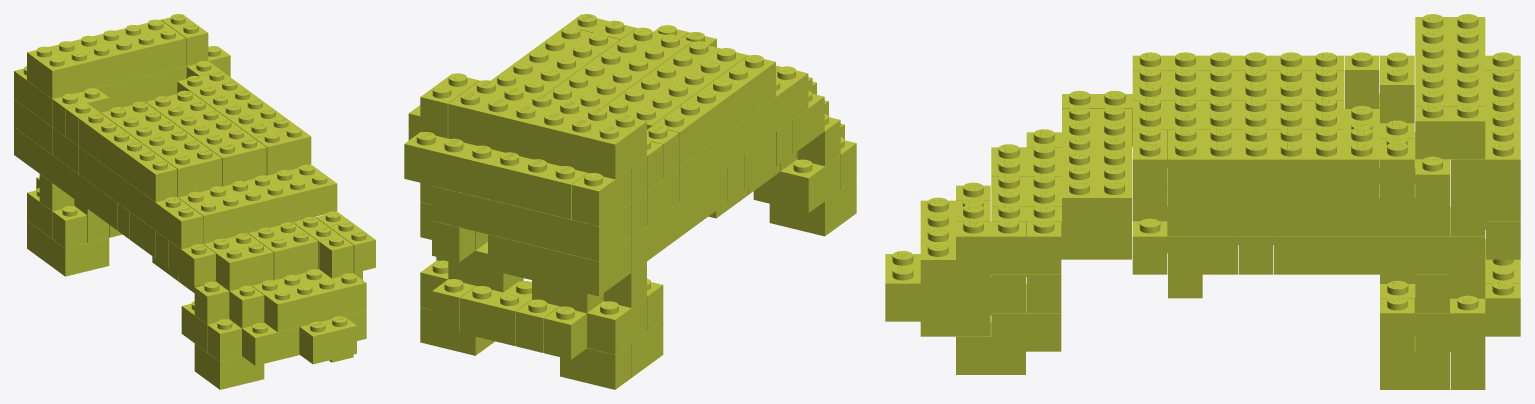
File: brickgpt_fbcf3009_4_a_racing_car_with_four_large_t_seed20.glb
The picture shows the model from 3 angles, left to right: view 1: azimuth 30°, elevation 25°; view 2: azimuth 150°, elevation 25°; view 3: azimuth 270°, elevation 25°; orthographic projection. The views are drawn at different scales.
Parts seen in each view (by area): view 1: 00088_2456.DAT, 00071_2456.DAT, 00027_3001.DAT, 00079_2456.DAT, 00081_2456.DAT, 00086_3009.DAT, 00075_3008.DAT, 00077_2456.DAT, 00083_3008.DAT, 00052_3001.DAT, 00048_3001.DAT, 00054_2456.DAT (+31 smaller); view 2: 00088_2456.DAT, 00080_2456.DAT, 00072_2456.DAT, 00086_3009.DAT, 00081_2456.DAT, 00079_2456.DAT, 00075_3008.DAT, 00053_3001.DAT, 00077_2456.DAT, 00054_2456.DAT, 00012_3003.DAT, 00020_3003.DAT (+29 smaller); view 3: 00077_2456.DAT, 00060_3008.DAT, 00071_2456.DAT, 00040_2456.DAT, 00081_2456.DAT, 00079_2456.DAT, 00088_2456.DAT, 00080_2456.DAT, 00027_3001.DAT, 00087_3004.DAT, 00038_3004.DAT, 00086_3009.DAT (+36 smaller).
Boxes of the visible parts, x1,y1,x2,y2 form: 00088_2456.DAT: [27, 19, 185, 98]; 00071_2456.DAT: [178, 164, 337, 243]; 00027_3001.DAT: [252, 269, 366, 332]; 00079_2456.DAT: [145, 90, 266, 185]; 00081_2456.DAT: [101, 101, 221, 196]; 00086_3009.DAT: [78, 112, 177, 202]; 00075_3008.DAT: [78, 146, 203, 249]; 00077_2456.DAT: [177, 70, 298, 138]; 00083_3008.DAT: [39, 46, 230, 126]; 00052_3001.DAT: [203, 233, 273, 290]; 00048_3001.DAT: [248, 222, 318, 279]; 00054_2456.DAT: [39, 146, 117, 229]; 00088_2456.DAT: [448, 80, 646, 179]; 00080_2456.DAT: [404, 132, 587, 219]; 00072_2456.DAT: [432, 185, 630, 261]; 00086_3009.DAT: [653, 55, 775, 167]; 00081_2456.DAT: [603, 41, 748, 129]; 00079_2456.DAT: [547, 27, 692, 107]; 00075_3008.DAT: [679, 66, 808, 202]; 00053_3001.DAT: [488, 234, 630, 296]; 00077_2456.DAT: [491, 26, 619, 94]; 00054_2456.DAT: [631, 167, 727, 272]; 00012_3003.DAT: [460, 281, 531, 345]; 00020_3003.DAT: [753, 155, 840, 212]; 00077_2456.DAT: [1168, 127, 1379, 197]; 00060_3008.DAT: [1168, 183, 1449, 236]; 00071_2456.DAT: [1062, 105, 1131, 236]; 00040_2456.DAT: [1274, 207, 1485, 274]; 00081_2456.DAT: [1132, 67, 1343, 100]; 00079_2456.DAT: [1132, 97, 1343, 167]; 00088_2456.DAT: [1415, 14, 1485, 106]; 00080_2456.DAT: [1450, 67, 1520, 197]; 00027_3001.DAT: [920, 197, 990, 298]; 00087_3004.DAT: [1415, 103, 1485, 159]; 00038_3004.DAT: [956, 219, 1025, 274]; 00086_3009.DAT: [1132, 52, 1343, 70].
Size of the model in its own units: 0.0638 by 0.0687 by 0.1438.
